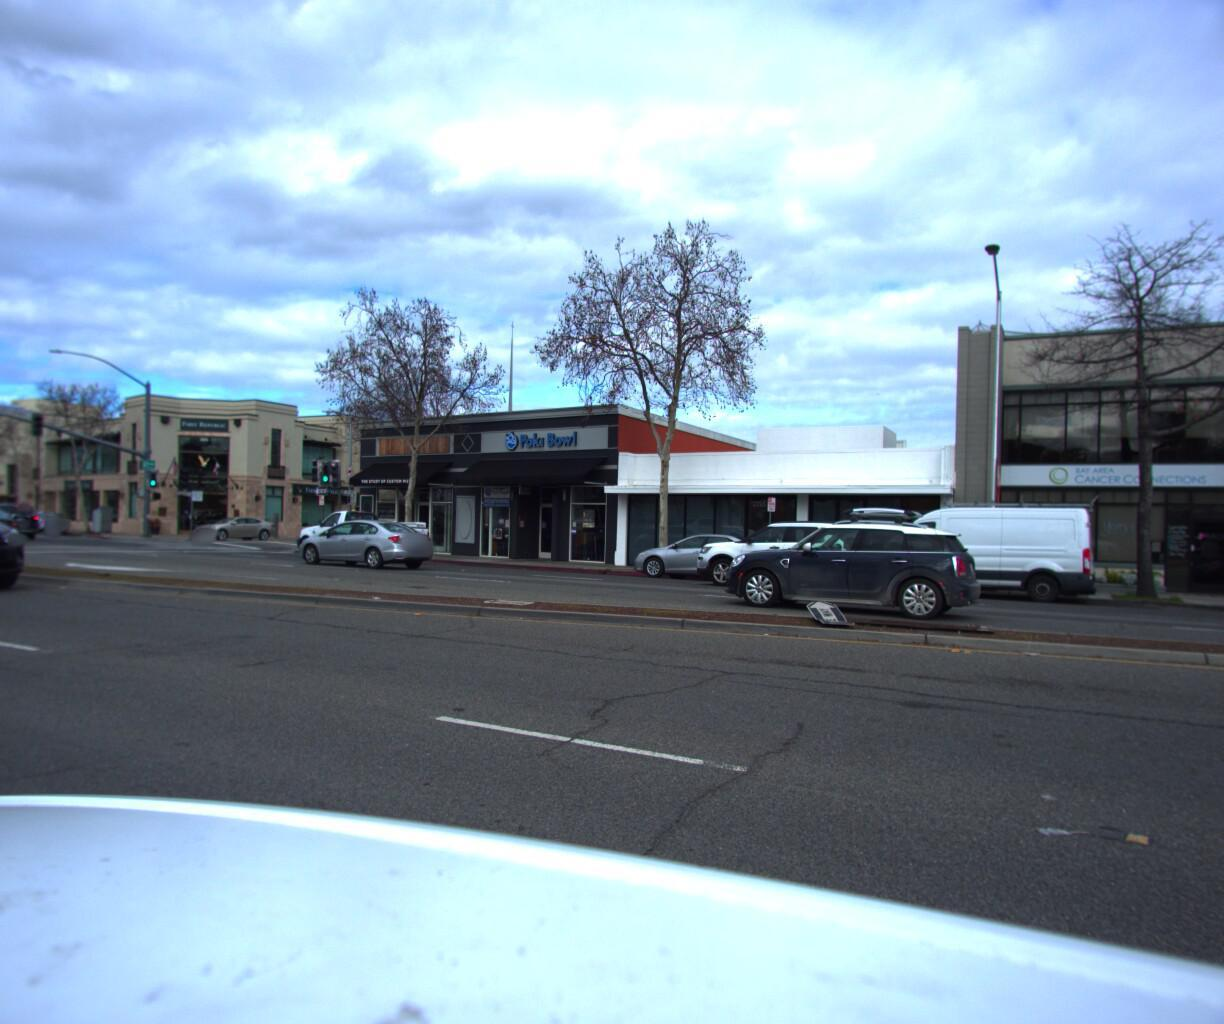car: (718, 496, 991, 624), (837, 486, 1103, 607), (688, 514, 908, 595), (611, 527, 796, 586), (285, 510, 445, 569), (284, 502, 436, 560), (0, 479, 54, 601), (174, 511, 277, 540), (0, 500, 44, 537), (7, 507, 68, 533), (0, 504, 34, 543), (1219, 543, 1224, 630)
